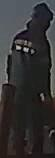gloves: (42, 89, 54, 110)
vest: (8, 30, 49, 108)
